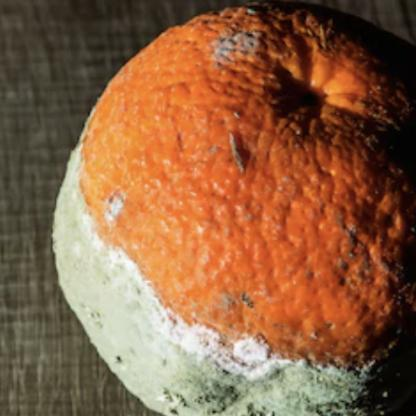rotten: (57, 1, 416, 416)
